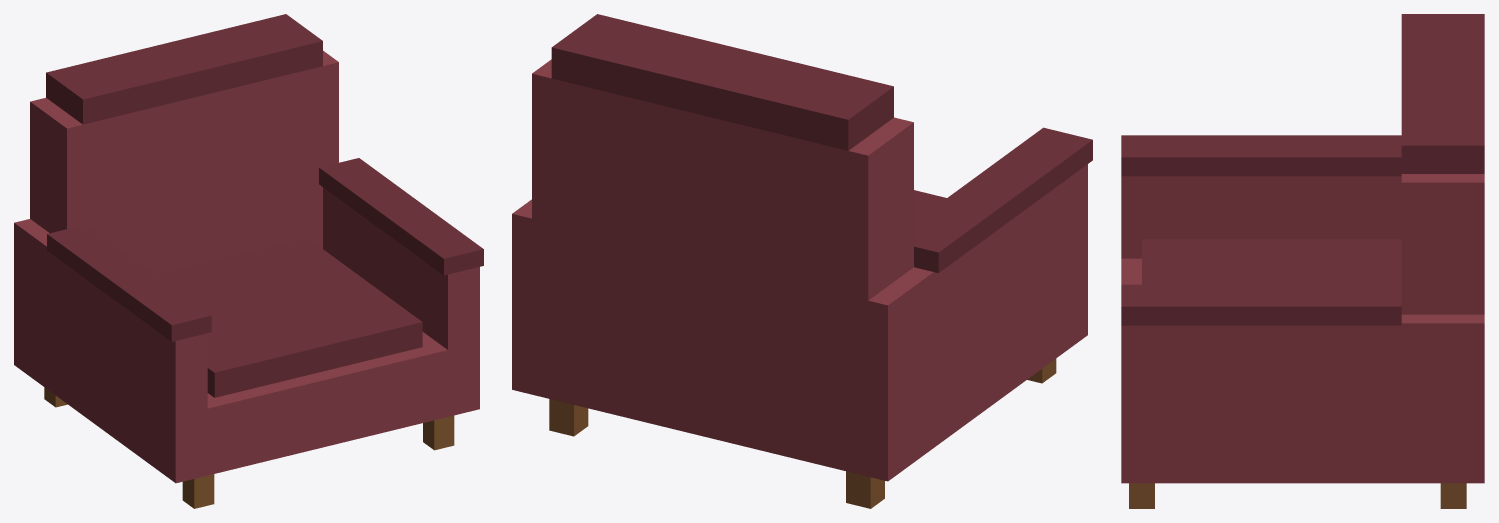
File: armchair.glb
3 renders of one model, left to right at view 1: azimuth 30°, elevation 25°; view 2: azimuth 150°, elevation 25°; view 3: azimuth 270°, elevation 25°, orthographic. The views are drawn at different scales.
Visible parts, largest first — view 1: armchair; view 2: armchair; view 3: armchair.
Boxes of the visible parts, x1,y1,x2,y2 form: armchair: (14,14,483,508); armchair: (512,14,1092,508); armchair: (1121,14,1484,508).
Size of the model in its own units: 0.78 by 0.76 by 0.7.
Materials: 1 (1 with a texture image).
